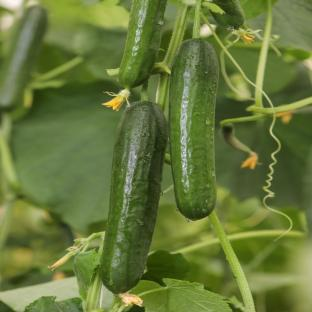Cucumber: (101, 102, 167, 293), (169, 39, 218, 220), (0, 6, 47, 109)
